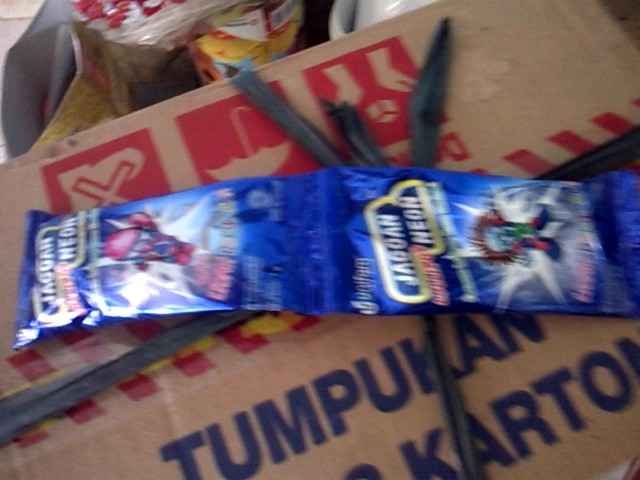jagoan neon: (16, 171, 321, 351), (316, 165, 640, 314)
